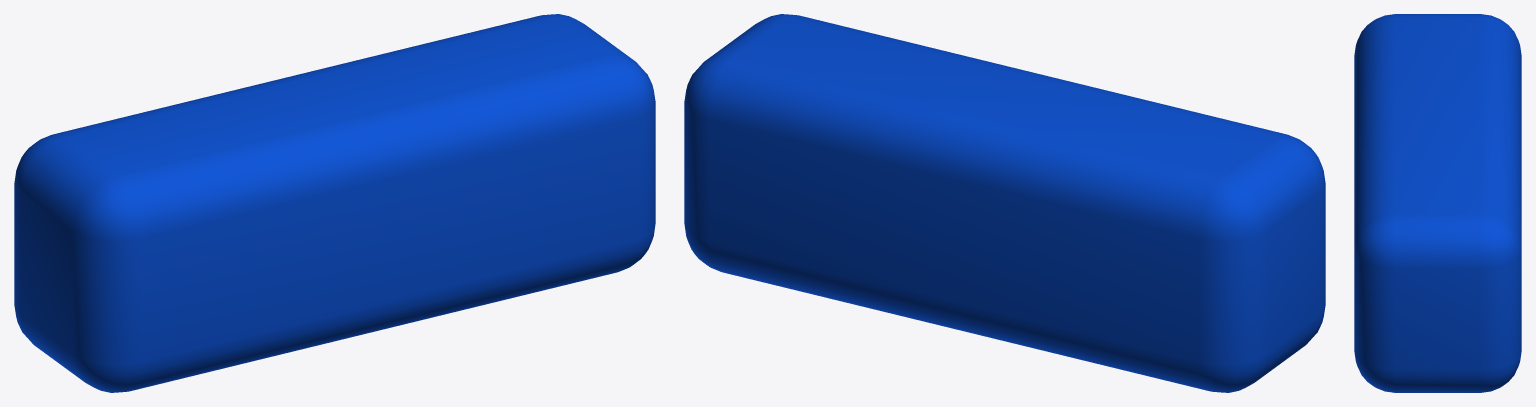
The model's file is UIMygtukas.fbx.
3 views of the same model, side by side, from view 1: azimuth 30°, elevation 25°; view 2: azimuth 150°, elevation 25°; view 3: azimuth 270°, elevation 25° (orthographic). The views are drawn at different scales.
Parts seen in each view (by area): view 1: Cube; view 2: Cube; view 3: Cube.
Part boxes in pixels (<box>): Cube: <box>14,14,655,392</box>; Cube: <box>684,14,1325,392</box>; Cube: <box>1354,14,1521,392</box>.
Size of the model in its own units: 2 by 0.7066 by 0.6108.
